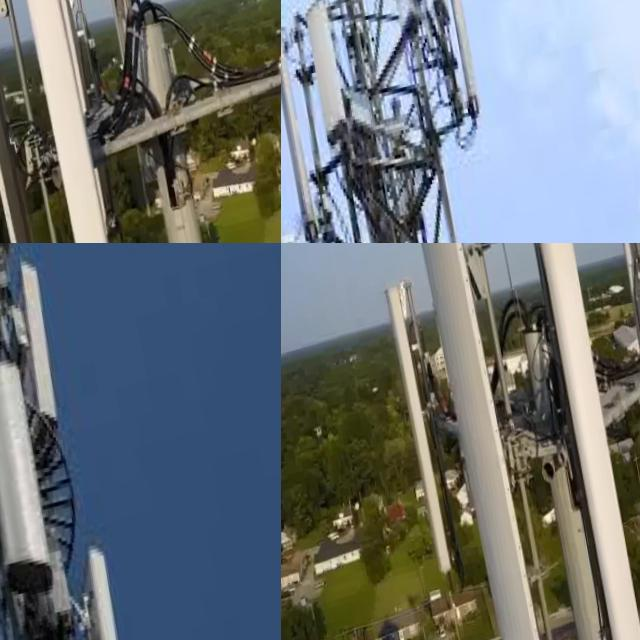GSM Antenna: (406, 243, 552, 640), (521, 243, 640, 640), (14, 0, 141, 243), (381, 274, 459, 584), (0, 0, 56, 243), (0, 352, 54, 600), (96, 0, 164, 177), (8, 261, 70, 442), (299, 0, 355, 159), (431, 0, 488, 152), (281, 24, 318, 243), (613, 243, 640, 509), (70, 541, 140, 640), (414, 0, 456, 44)
